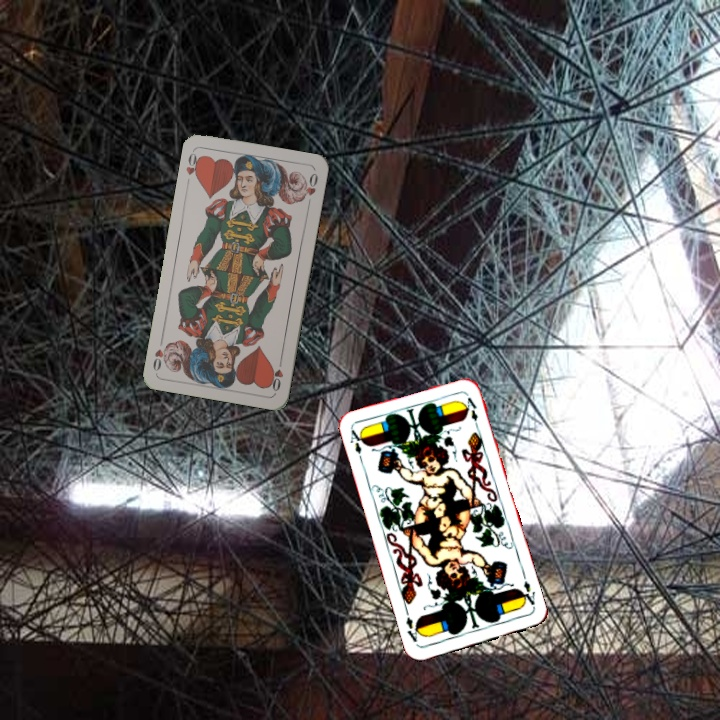EA: (346, 426, 367, 465), (516, 577, 538, 611)
HO: (266, 354, 286, 394), (182, 147, 204, 182)
